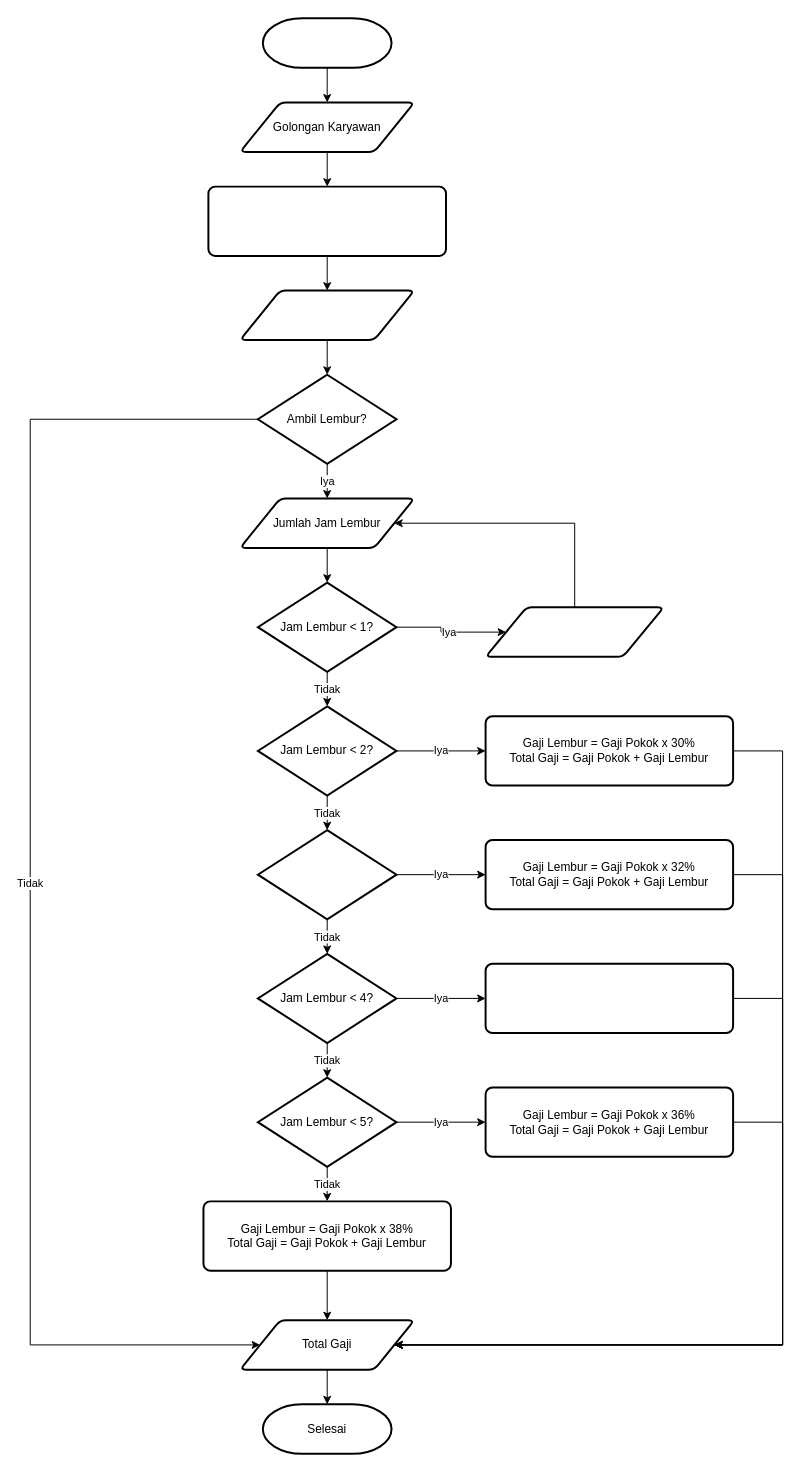
The diagram is 808 pixels wide and 1471 high, and some of its shapes have lost their labels. Each missing label, with the box of its shape:
Ambil Lembur (Iya / Tidak): (239, 289, 415, 341)
Gaji Lembur = Gaji Pokok x 34% Total Gaji = Gaji Pokok + Gaji Lembur: (484, 962, 734, 1034)
Gaji Pokok = gaji sesuai Golongan Total Gaji = Gaji Pokok: (207, 185, 446, 256)
Jam Lembur < 3?: (256, 829, 397, 920)
Jam lembur tidak valid: (484, 606, 664, 657)
Mulai: (261, 17, 392, 68)
